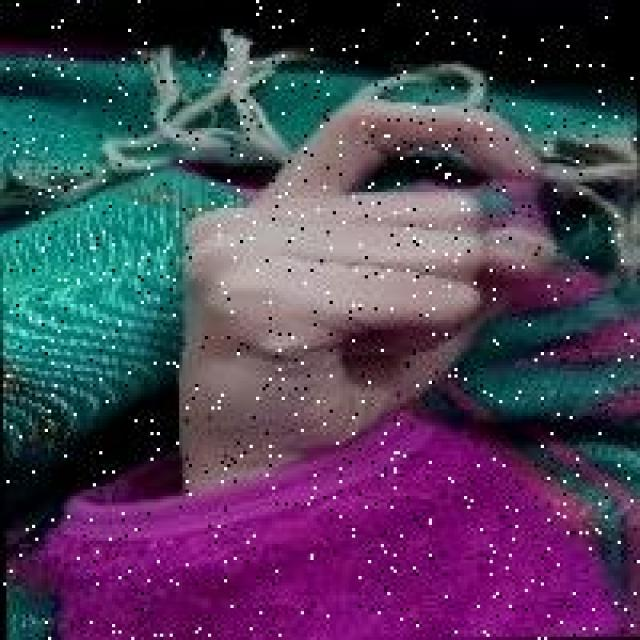X: (168, 88, 558, 437)
